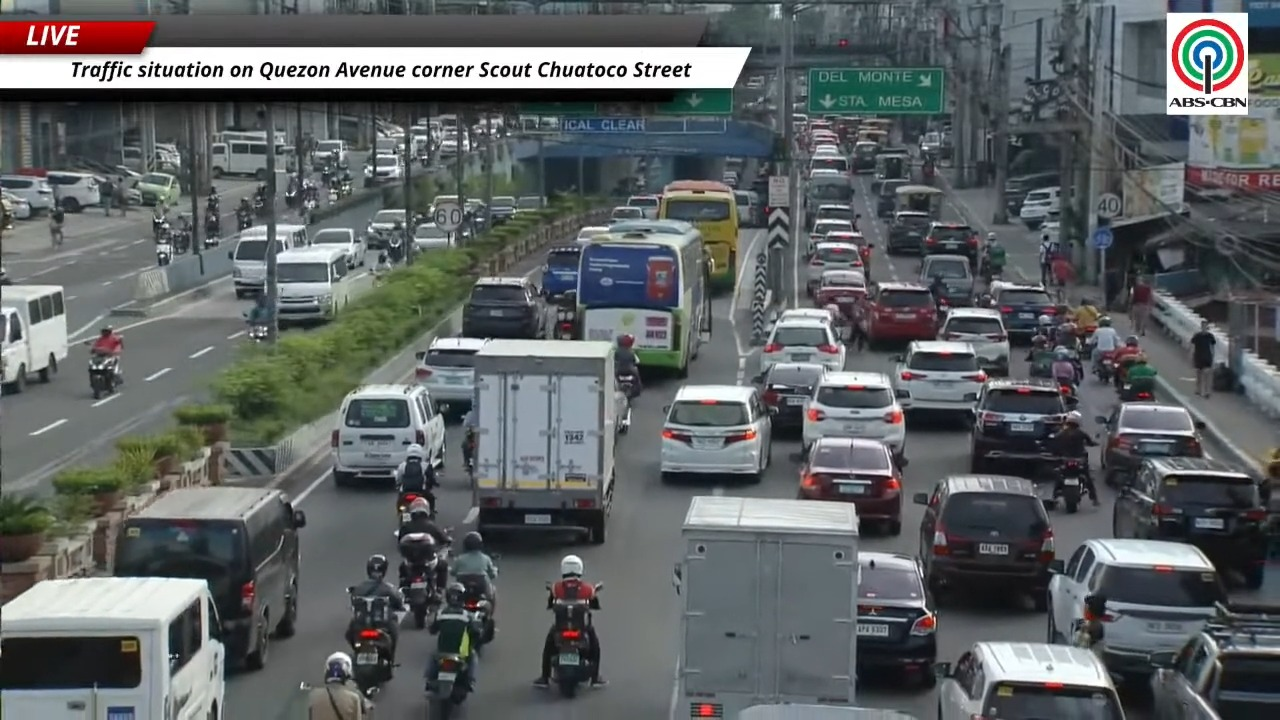bus: (575, 232, 710, 377), (659, 180, 739, 291), (210, 129, 267, 143), (275, 145, 295, 172)
car: (113, 487, 305, 669), (1047, 539, 1227, 678), (1113, 457, 1269, 588), (913, 474, 1055, 611), (1151, 600, 1279, 717), (937, 641, 1123, 719), (331, 383, 444, 486), (856, 551, 937, 686), (660, 385, 771, 481), (798, 436, 905, 535), (970, 378, 1071, 472), (1095, 402, 1204, 486), (802, 371, 906, 457), (891, 340, 987, 417), (462, 276, 547, 338), (415, 337, 486, 410), (858, 282, 938, 346), (938, 307, 1011, 376), (756, 363, 827, 429), (760, 318, 845, 370), (990, 282, 1056, 340), (805, 240, 864, 296), (918, 254, 974, 306), (815, 269, 866, 318), (923, 221, 979, 265), (1006, 171, 1060, 216), (45, 170, 101, 212), (310, 228, 366, 268), (0, 174, 53, 213), (826, 231, 873, 274), (886, 211, 930, 254), (1019, 187, 1059, 229), (807, 218, 856, 251), (872, 178, 911, 217), (136, 172, 180, 206), (366, 209, 404, 248), (413, 222, 452, 251), (735, 190, 766, 226), (812, 203, 857, 224), (776, 307, 835, 323), (370, 154, 402, 182), (852, 141, 879, 173), (3, 191, 32, 219), (626, 195, 659, 219), (489, 196, 516, 225), (608, 205, 645, 223), (575, 226, 609, 244), (919, 131, 941, 156), (516, 195, 545, 212), (811, 142, 839, 156), (808, 168, 840, 179), (722, 171, 738, 187)
motorcycle: (348, 587, 402, 693), (551, 601, 593, 697), (398, 533, 440, 628), (429, 653, 472, 719), (456, 574, 495, 643), (1054, 458, 1083, 513), (88, 352, 118, 399), (396, 489, 435, 523), (1119, 379, 1155, 403), (614, 389, 631, 434), (463, 429, 477, 479), (616, 372, 640, 399), (1055, 379, 1078, 406), (1093, 353, 1114, 382), (170, 227, 191, 254), (300, 194, 318, 223), (203, 219, 219, 248), (151, 215, 168, 240), (155, 242, 172, 266), (247, 324, 268, 342), (237, 210, 253, 231), (556, 321, 573, 339), (284, 188, 298, 208), (253, 196, 266, 216), (206, 196, 219, 215), (327, 187, 339, 205), (339, 180, 352, 196)
truck: (673, 496, 858, 717), (0, 577, 231, 719), (472, 339, 624, 544), (1150, 600, 1279, 719), (0, 285, 68, 392), (737, 704, 917, 719)
